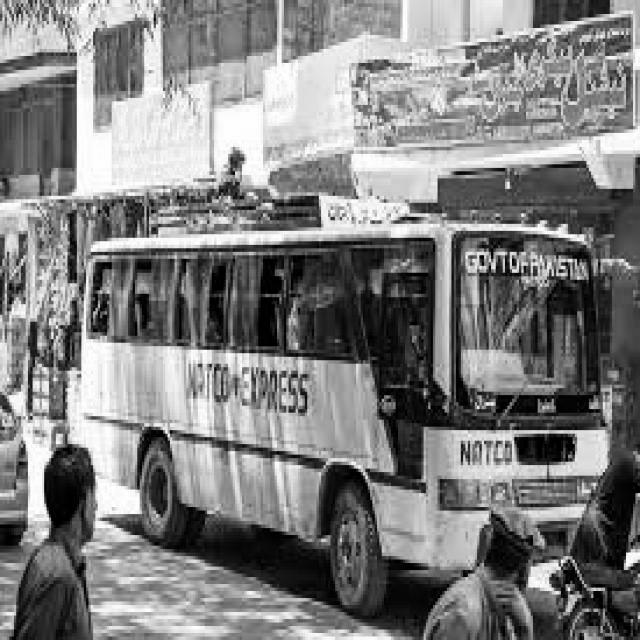Bus: (67, 208, 632, 594)
